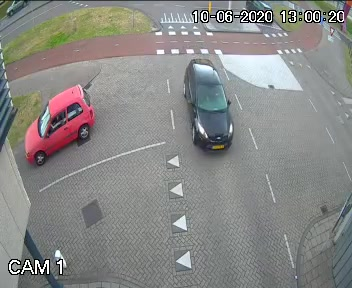car: (179, 51, 236, 156), (24, 82, 95, 166), (244, 0, 268, 27)
